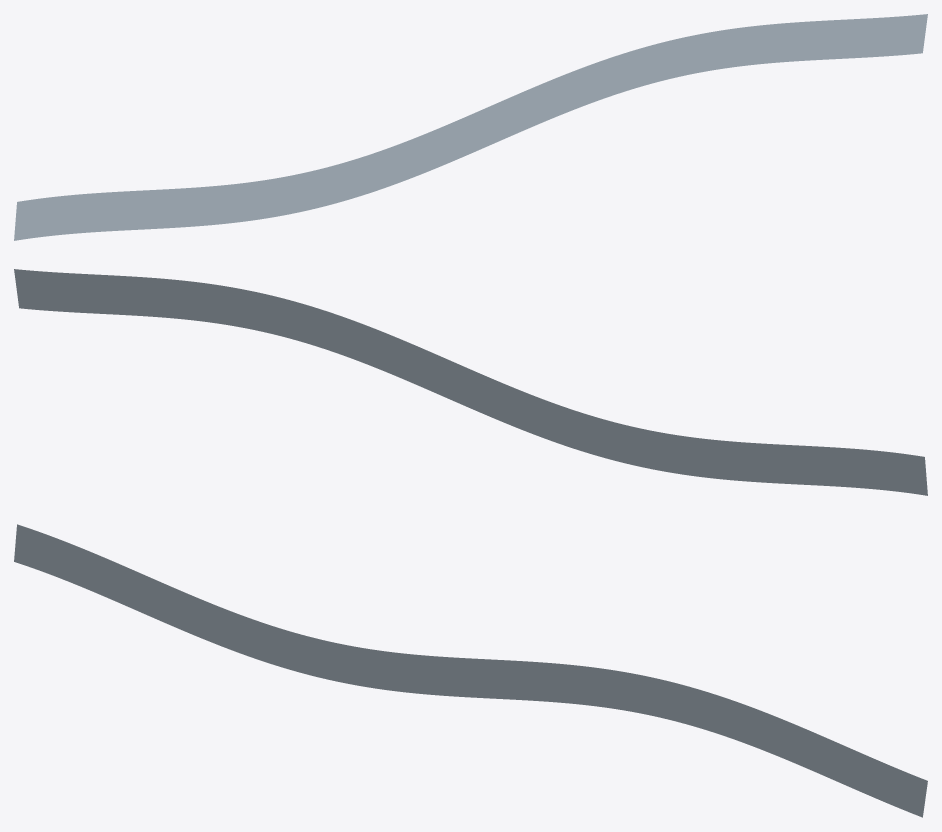
The model's file is Mona_StellarisPhantasm_CastOnly_StarryWaterWave2.fbx.
3 views of the same model, one above another, from view 1: azimuth 30°, elevation 25°; view 2: azimuth 150°, elevation 25°; view 3: azimuth 330°, elevation 25° (orthographic).
Visible parts, largest first — view 1: PART_ThinRollingStarryWater_2; view 2: PART_ThinRollingStarryWater_2; view 3: PART_ThinRollingStarryWater_2.
Boxes of the visible parts, bbox=[...] form: PART_ThinRollingStarryWater_2: bbox=[14, 14, 927, 240]; PART_ThinRollingStarryWater_2: bbox=[14, 269, 927, 495]; PART_ThinRollingStarryWater_2: bbox=[14, 524, 927, 817].
Bounding box in the file's own units: 841 × 71.8 × 1.17e-05.
